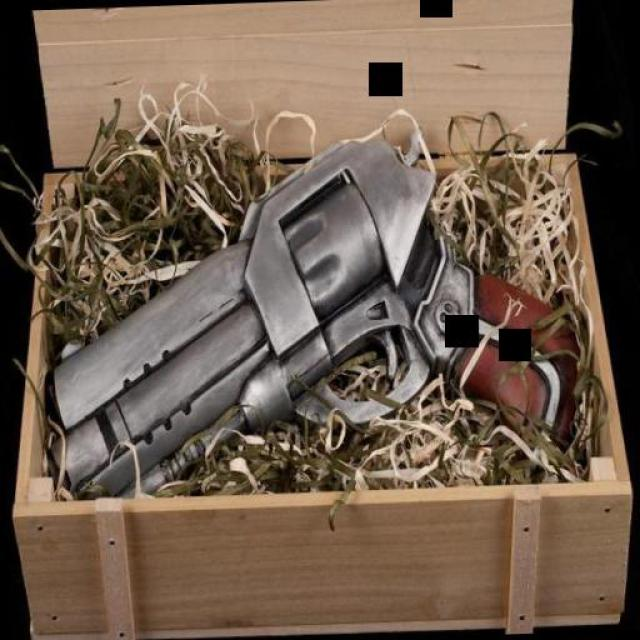gun: (36, 128, 590, 498)
